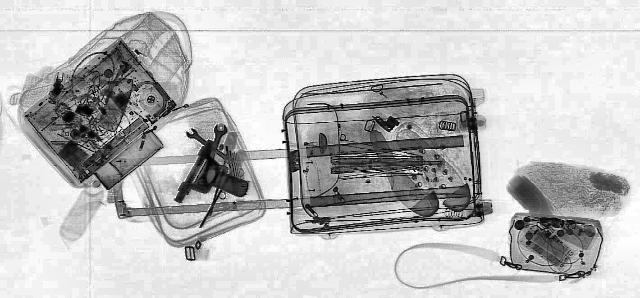Wrench: (178, 128, 240, 164), (198, 124, 232, 164)
